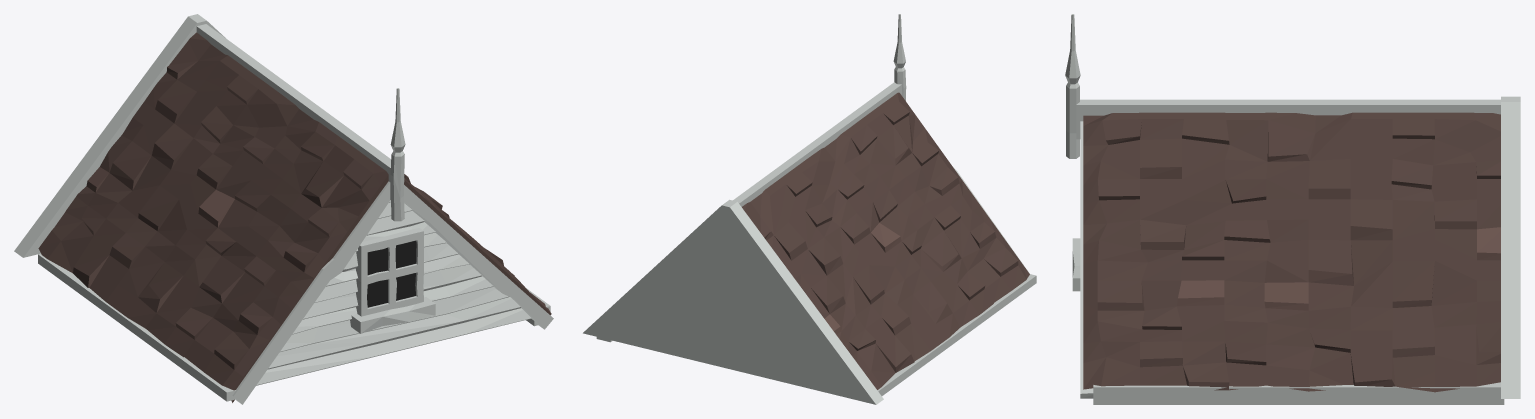
File: SM_Bld_Mansion_Roof_Single_01.glb
The picture shows the model from 3 angles, left to right: view 1: azimuth 30°, elevation 25°; view 2: azimuth 150°, elevation 25°; view 3: azimuth 270°, elevation 25°; orthographic projection. The views are drawn at different scales.
Visible parts, largest first — view 1: SM_Bld_Mansion_Roof_Single_01_part00; view 2: SM_Bld_Mansion_Roof_Single_01_part00; view 3: SM_Bld_Mansion_Roof_Single_01_part00.
Part boxes in pixels (x1,y1,x2,y2): SM_Bld_Mansion_Roof_Single_01_part00: (14, 14, 553, 404); SM_Bld_Mansion_Roof_Single_01_part00: (583, 14, 1036, 404); SM_Bld_Mansion_Roof_Single_01_part00: (1065, 14, 1520, 404).
Bounding box in the file's own units: 4.99 × 3.85 × 5.19.
Materials: 1 (1 with a texture image).
